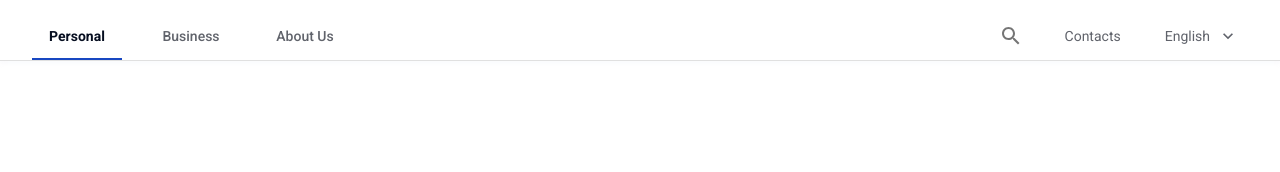
WelcomeHeader › Language dropdown › closes language menu when menu item is clicked
Click the text "English" at (1187, 36), box x1=1165 y1=29 x2=1210 y2=43
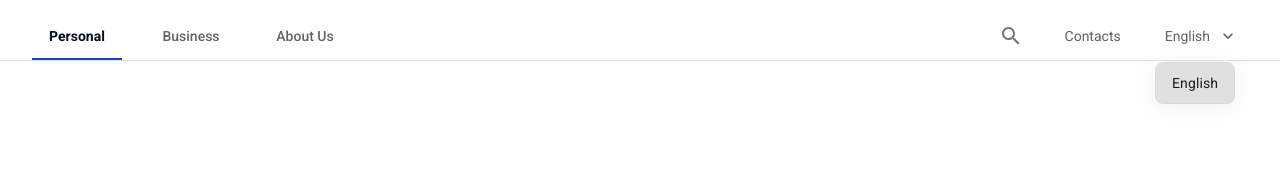
Check: the menu is shown
Click the menu item "English" at (1195, 83), box x1=1156 y1=63 x2=1234 y2=103
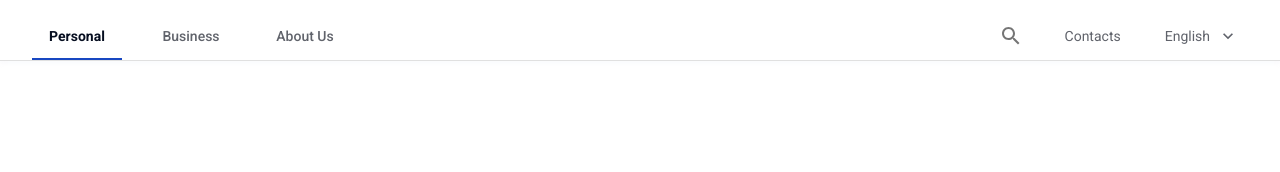
Check: the menu is gone
